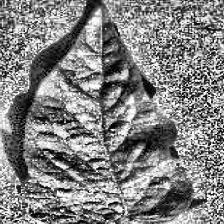spider mites: (19, 6, 220, 224)
